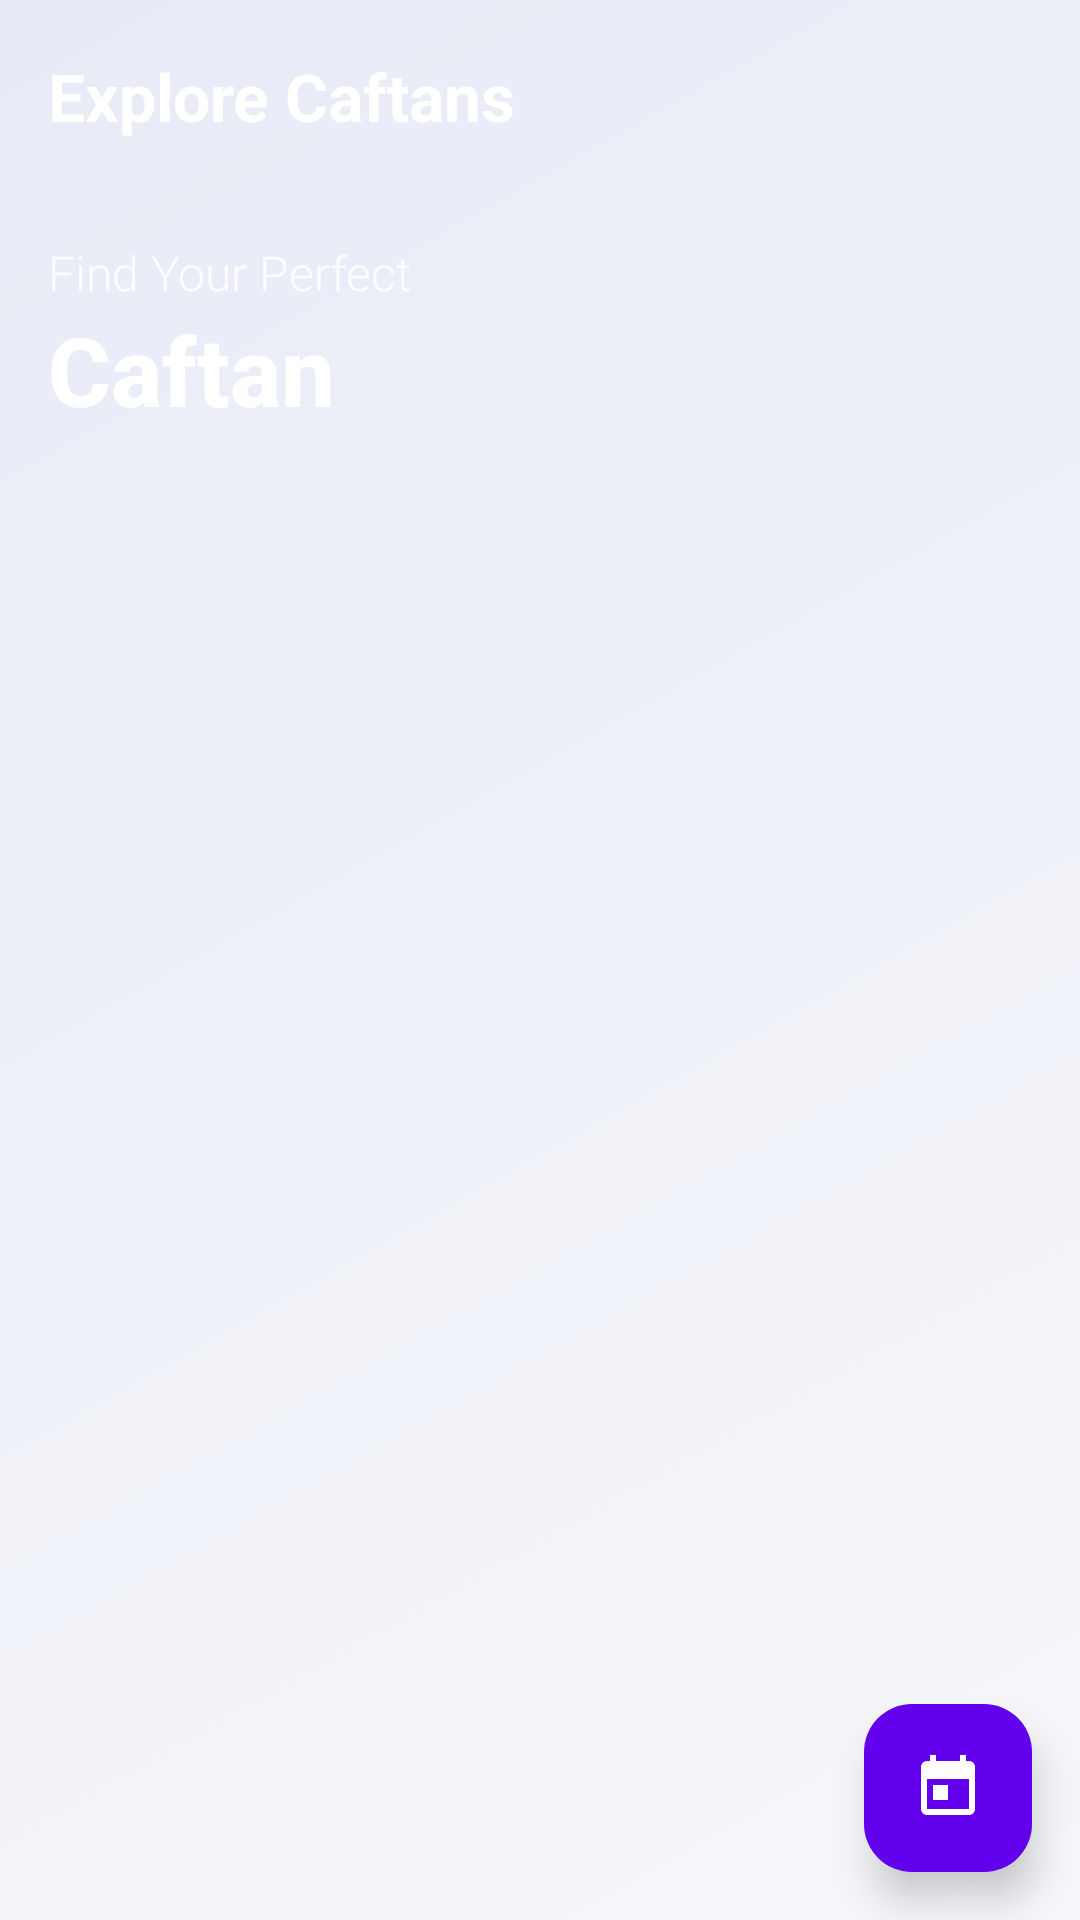

Icons on this 1080 x 1920 Android screen, each with its box as box(x1, y1, x2, y2):
My Rentals: box(864, 1704, 1032, 1872)
